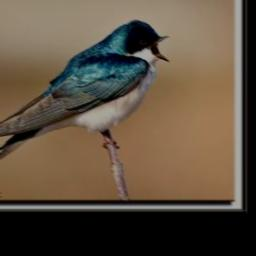Swallow: (0, 17, 174, 163)
